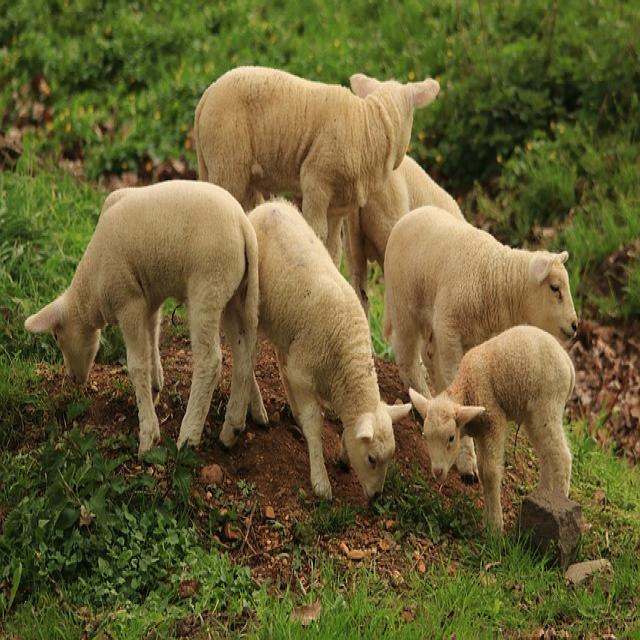goat: (25, 180, 262, 455), (189, 66, 440, 309), (245, 198, 396, 503), (382, 206, 578, 406), (408, 326, 575, 530)
